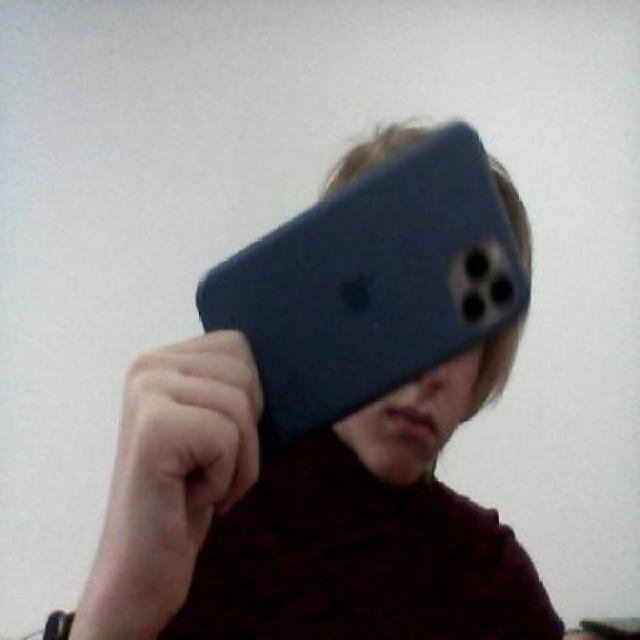mobile: (171, 108, 540, 482)
